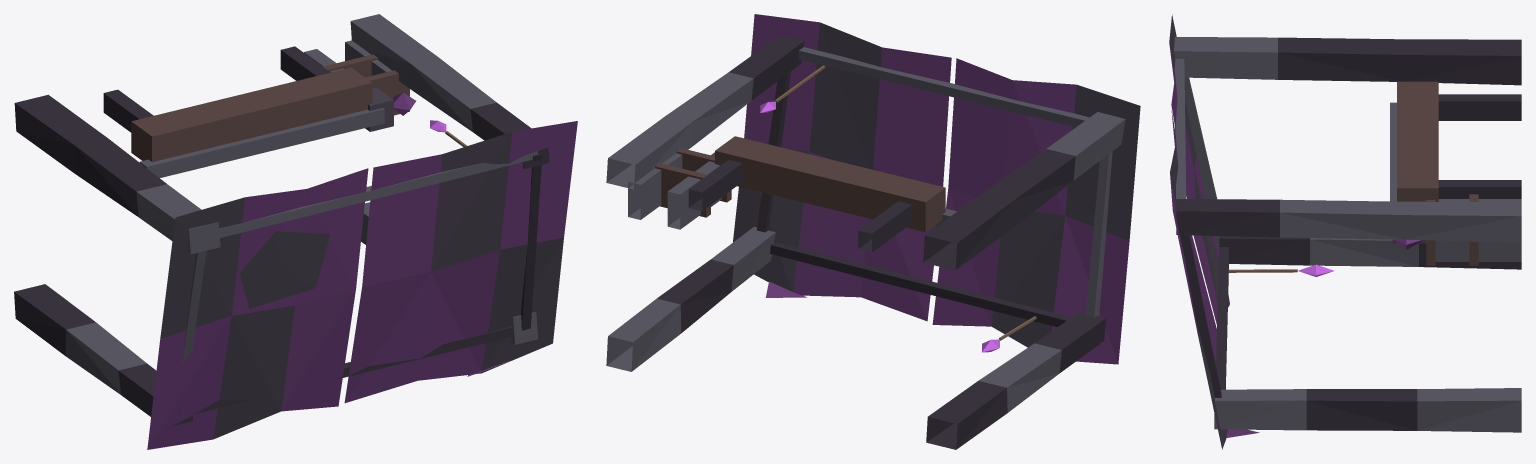
The model's file is void_market_shelter.obj.
3 views of the same model, side by side, from view 1: azimuth 30°, elevation 25°; view 2: azimuth 150°, elevation 25°; view 3: azimuth 270°, elevation 25° (orthographic). The views are drawn at different scales.
Parts seen in each view (by area): view 1: canopy_right_panel, canopy_left_panel, quartermaster_counter, post_03_rear_left, post_04_rear_right, post_01_front_left, canopy_repair_patch, counter_ledge, frame_rear, counter_legs, frame_right, frame_front (+5 smaller); view 2: canopy_right_panel, canopy_left_panel, post_03_rear_left, quartermaster_counter, post_04_rear_right, post_01_front_left, post_02_front_right, frame_front, frame_rear, counter_legs, supply_shelf_supports, frame_left (+2 smaller); view 3: post_03_rear_left, post_04_rear_right, post_02_front_right, post_01_front_left, quartermaster_counter, counter_legs, canopy_left_panel, canopy_right_panel, supply_shelf_supports, frame_right, frame_front, frame_left (+3 smaller).
Boxes of the visible parts, x1,y1,x2,y2 form: canopy_right_panel: (344,121,577,402); canopy_left_panel: (147,168,368,449); quartermaster_counter: (131,67,372,161); post_03_rear_left: (14,94,220,254); post_04_rear_right: (350,14,549,168); post_01_front_left: (14,284,193,426); canopy_repair_patch: (239,231,330,308); counter_ledge: (139,108,384,177); frame_rear: (219,151,537,237); counter_legs: (103,46,330,132); frame_right: (520,153,542,330); frame_front: (195,326,513,413); canopy_right_panel: (733,14,951,321); canopy_left_panel: (932,58,1140,364); post_03_rear_left: (923,112,1125,270); quartermaster_counter: (715,136,945,232); post_04_rear_right: (606,35,804,189); post_01_front_left: (926,312,1105,449); post_02_front_right: (606,226,775,371); frame_front: (770,242,1071,327); frame_rear: (798,47,1089,127); counter_legs: (688,160,911,252); supply_shelf_supports: (628,153,721,229); frame_left: (1085,151,1112,317); post_03_rear_left: (1174,37,1521,85); post_04_rear_right: (1176,199,1521,242); post_02_front_right: (1214,388,1521,432); post_01_front_left: (1219,236,1521,269); quartermaster_counter: (1397,81,1438,201); counter_legs: (1438,94,1521,198); canopy_left_panel: (1169,14,1229,324); canopy_right_panel: (1170,111,1227,449); supply_shelf_supports: (1435,199,1521,261); frame_right: (1180,235,1221,397); frame_front: (1216,246,1229,389); frame_left: (1184,77,1219,247).
Bounding box in the file's own units: 3.24 × 2.02 × 2.46.
